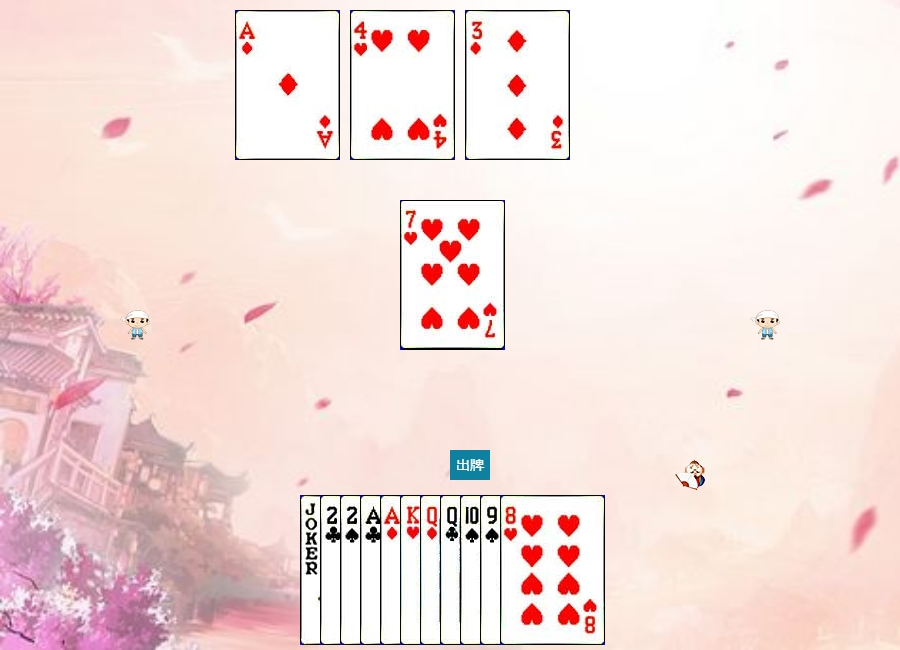10~4: (460, 495, 565, 645)
12~1: (420, 495, 525, 645)
12~2: (440, 495, 545, 645)
13~3: (400, 495, 505, 645)
14~1: (235, 10, 340, 160), (380, 495, 485, 645)
14~2: (360, 495, 465, 645)
15~2: (320, 495, 425, 645)
15~4: (340, 495, 445, 645)
17~3: (300, 495, 405, 645)
3~1: (465, 10, 570, 160)
4~3: (350, 10, 455, 160)
7~3: (400, 200, 505, 350)
8~3: (500, 495, 605, 645)
9~4: (480, 495, 585, 645)
